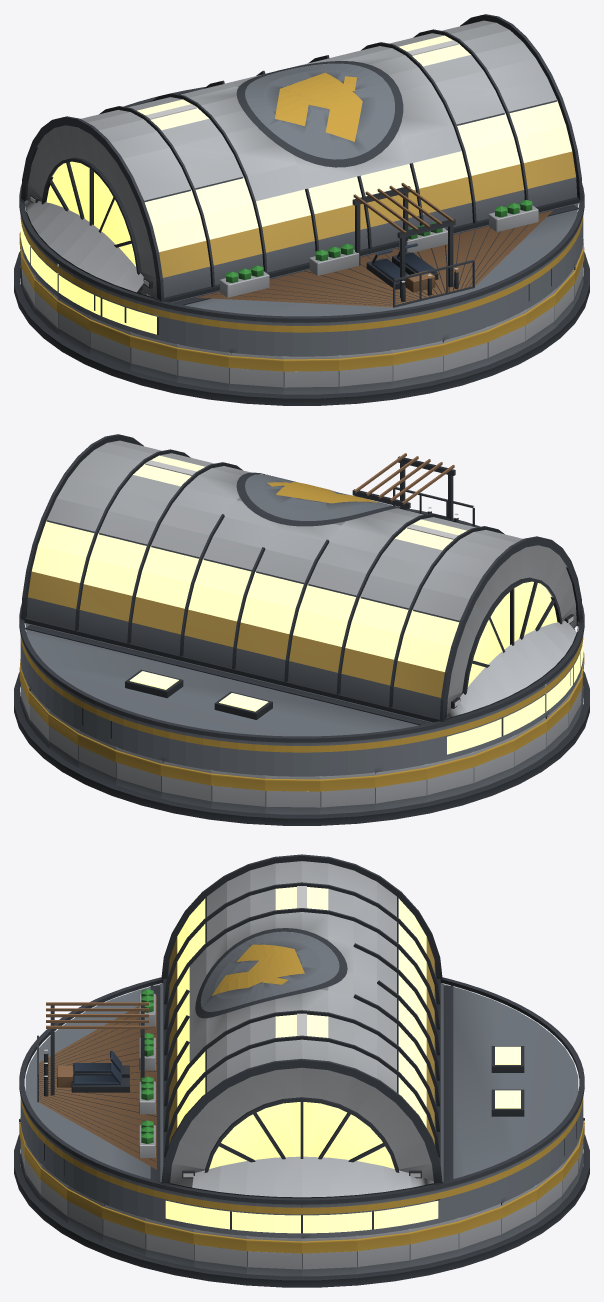
The model's file is residence_tube_executive_m_far.glb.
3 renders of one model, top to bottom at view 1: azimuth 30°, elevation 25°; view 2: azimuth 150°, elevation 25°; view 3: azimuth 270°, elevation 25°, orthographic.
Visible parts, largest first — view 1: Roof, Base; view 2: Roof, Base; view 3: Roof, Base.
Boxes of the visible parts, <box> form: Roof: <box>19,14,584,356</box>; Base: <box>14,232,589,405</box>; Roof: <box>19,434,584,776</box>; Base: <box>14,627,589,825</box>; Roof: <box>19,854,584,1238</box>; Base: <box>14,1117,589,1287</box>.
Bounding box in the file's own units: 17.76 × 7.1 × 17.76.
